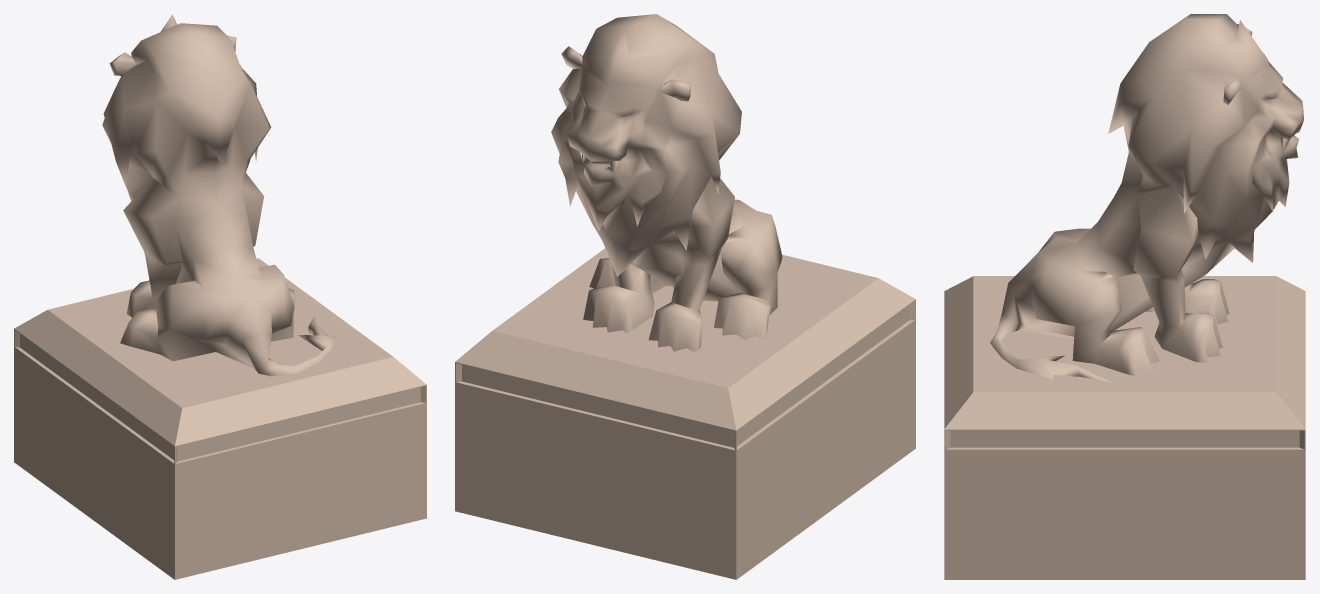
The model's file is LionStatue.FBX.
3 renders of one model, left to right at view 1: azimuth 30°, elevation 25°; view 2: azimuth 150°, elevation 25°; view 3: azimuth 270°, elevation 25°, orthographic. The views are drawn at different scales.
Parts seen in each view (by area): view 1: LionStatue001, Object007; view 2: LionStatue001, Object007; view 3: LionStatue001, Object007.
Boxes of the visible parts, x1,y1,x2,y2 form: LionStatue001: (14, 258, 426, 579); Object007: (102, 14, 335, 376); LionStatue001: (455, 248, 915, 579); Object007: (551, 14, 782, 352); LionStatue001: (944, 276, 1305, 579); Object007: (990, 14, 1303, 382).
Size of the model in its own units: 143 by 238 by 158.
